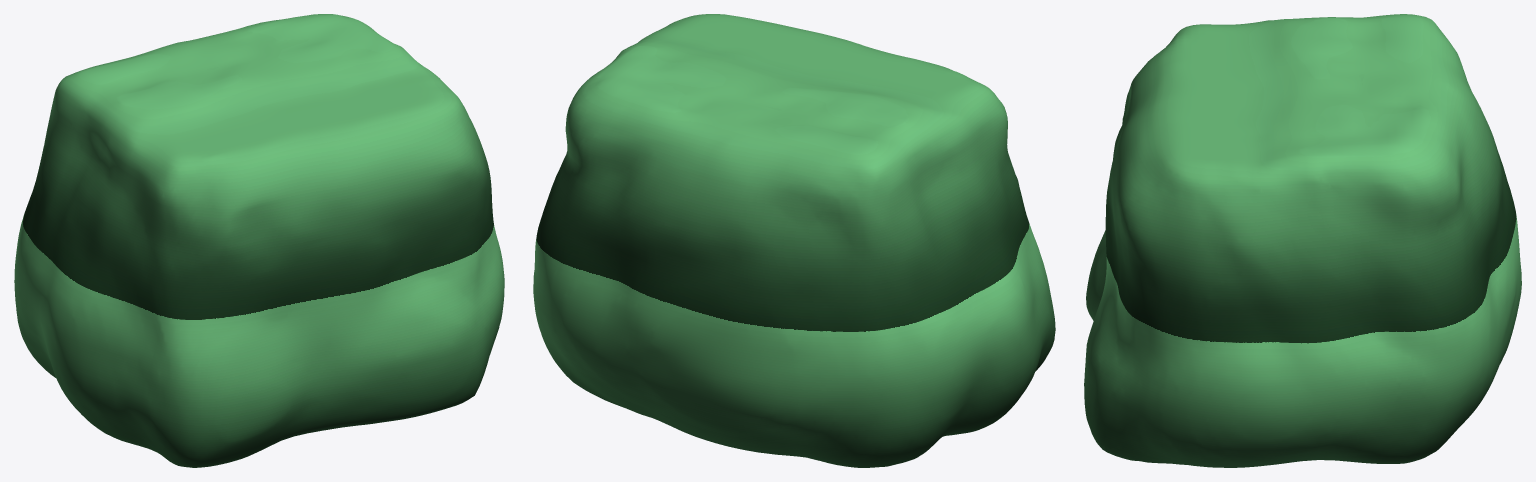
Rendered from Landscape.fbx.
The picture shows the model from 3 angles, left to right: view 1: azimuth 30°, elevation 25°; view 2: azimuth 150°, elevation 25°; view 3: azimuth 270°, elevation 25°; orthographic projection. The views are drawn at different scales.
Visible parts, largest first — view 1: Terrain; view 2: Terrain; view 3: Terrain.
Part boxes in pixels (x1=…): Terrain: x1=14, y1=14, x2=504, y2=467; Terrain: x1=533, y1=14, x2=1055, y2=467; Terrain: x1=1084, y1=14, x2=1521, y2=467.
Size of the model in its own units: 3.35 by 2.78 by 2.3.
